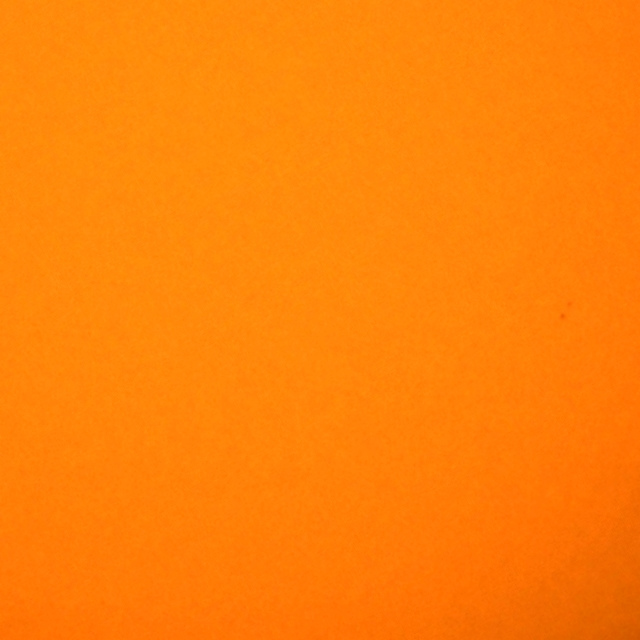sunspot: (558, 299, 574, 323)
